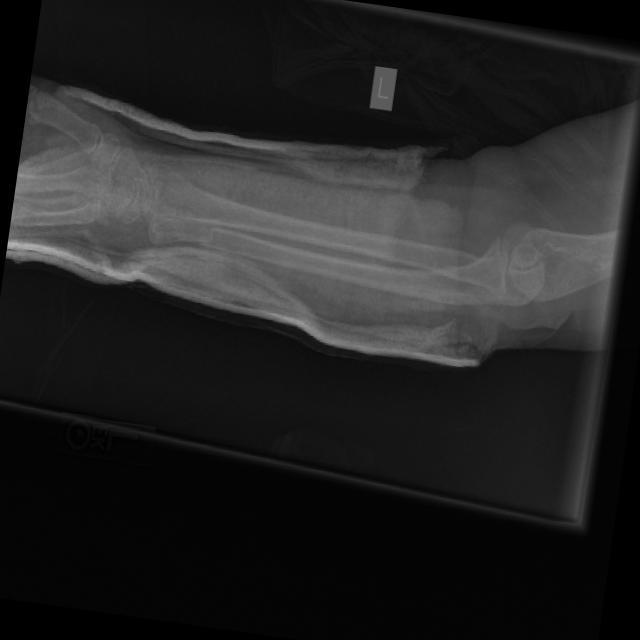forearm fracture: (182, 198, 253, 275)
